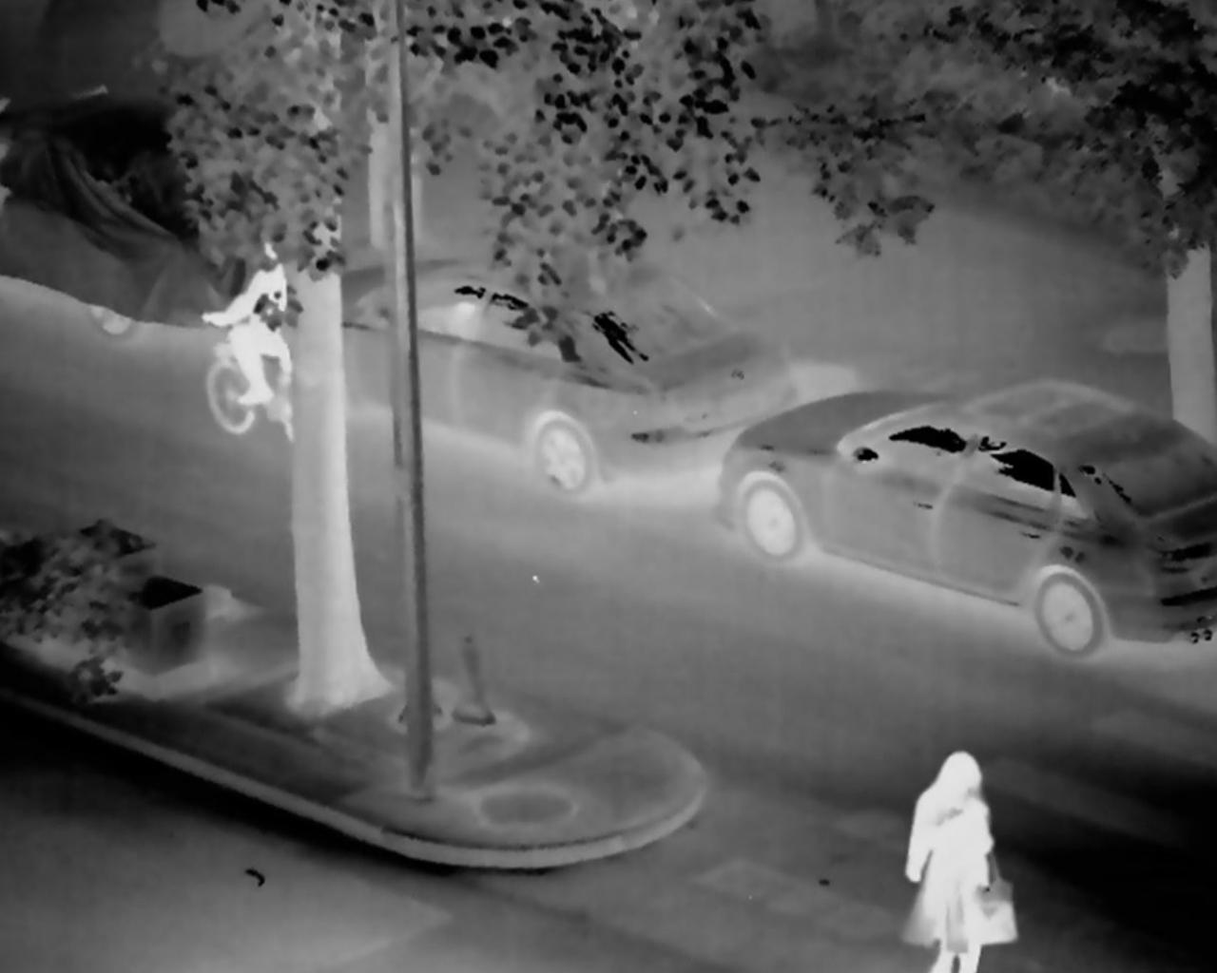person: (899, 748, 1010, 973), (209, 231, 295, 410)
